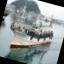fishing boat: (3, 8, 58, 59)
